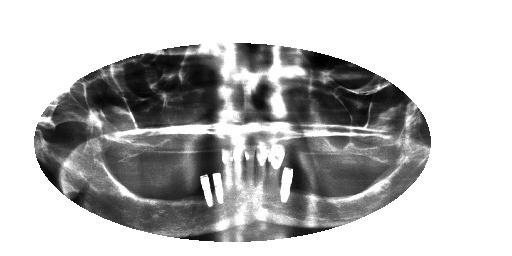Implant: (196, 174, 213, 213), (280, 164, 292, 206), (213, 169, 225, 206)
